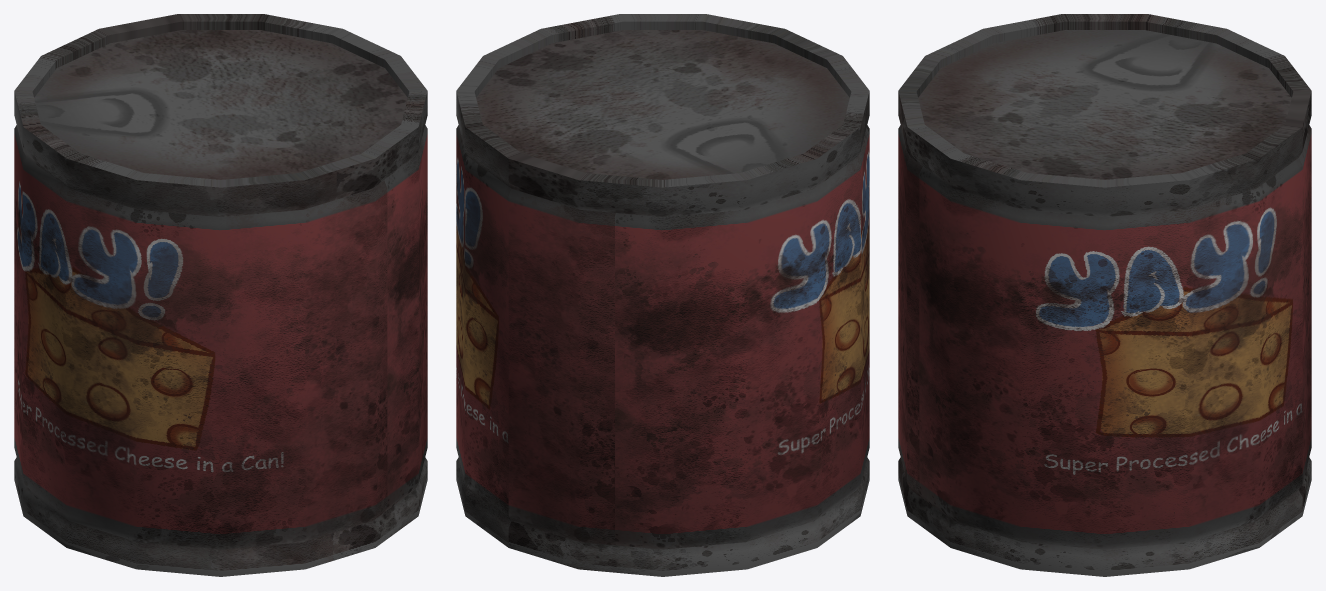
File: can_M.fbx
The picture shows the model from 3 angles, left to right: view 1: azimuth 30°, elevation 25°; view 2: azimuth 150°, elevation 25°; view 3: azimuth 270°, elevation 25°; orthographic projection.
Parts seen in each view (by area): view 1: Cylinder001; view 2: Cylinder001; view 3: Cylinder001.
Part boxes in pixels (left/top/right/bottom): Cylinder001: left=14, top=14, right=427, bottom=576; Cylinder001: left=456, top=14, right=869, bottom=576; Cylinder001: left=898, top=14, right=1311, bottom=576.
Bounding box in the file's own units: 7.94 × 8.3 × 7.99.
